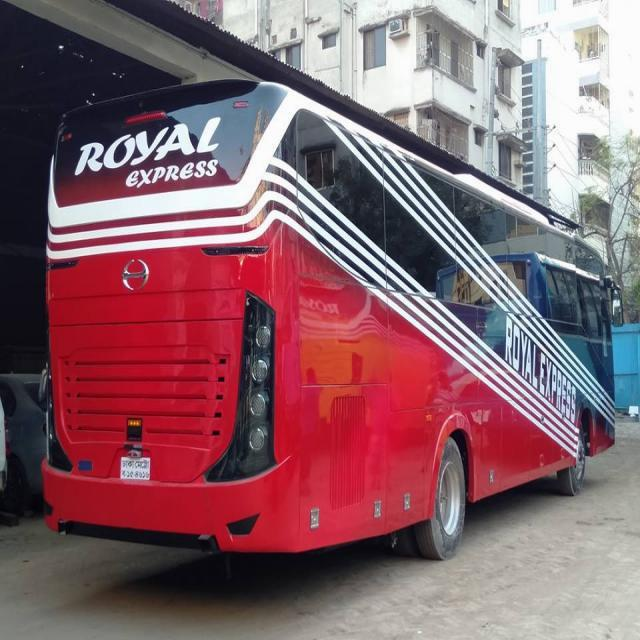bus: (43, 78, 626, 564)
